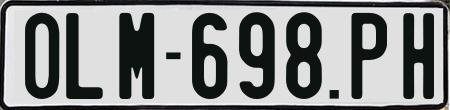0: (25, 13, 63, 104)
6: (189, 13, 227, 101)
8: (284, 10, 322, 100)
9: (237, 9, 273, 96)
H: (400, 13, 430, 104)
L: (65, 11, 108, 101)
M: (117, 12, 155, 101)
P: (348, 11, 387, 102)
